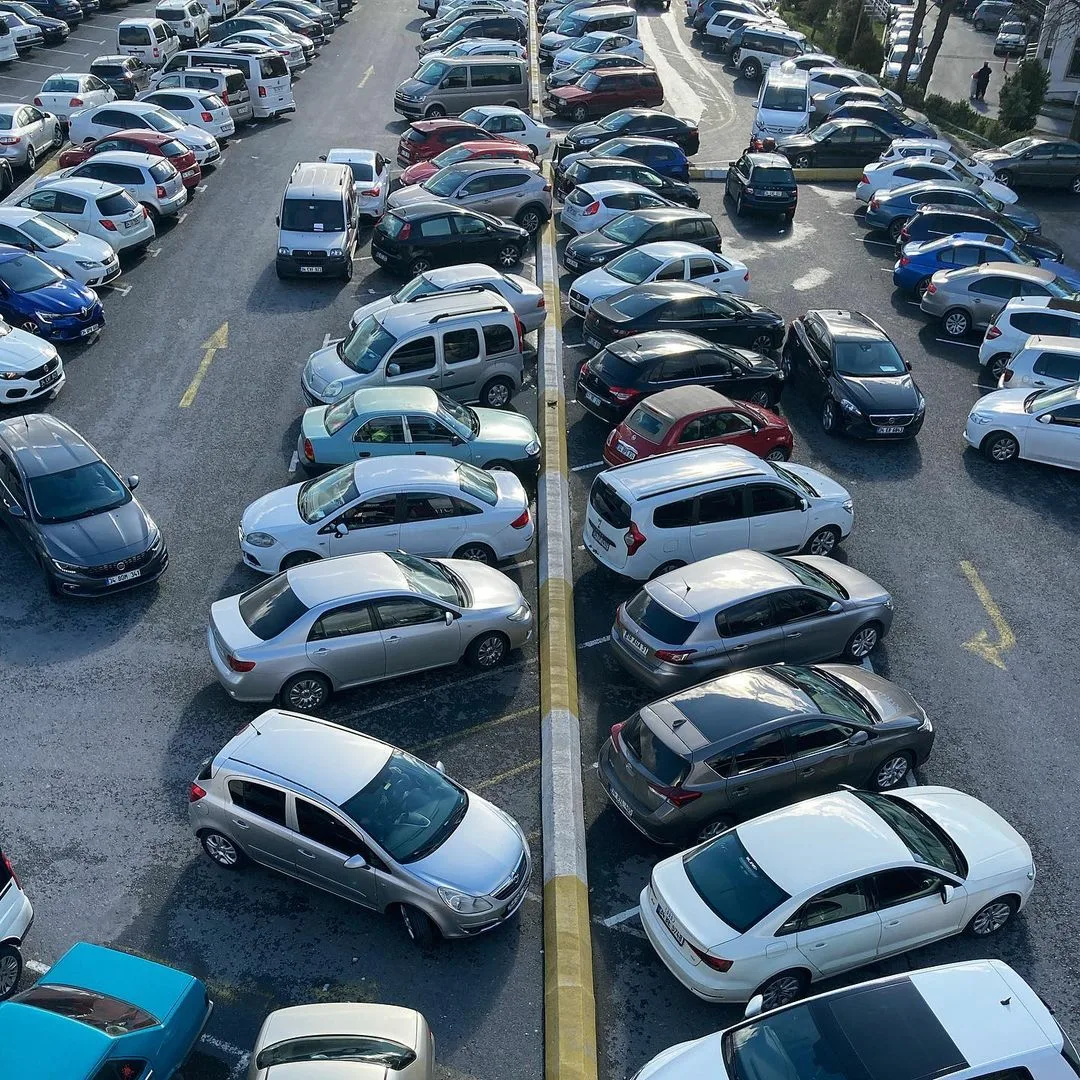Car: (640, 784, 1036, 1009), (188, 710, 532, 945), (597, 664, 935, 847), (631, 959, 1080, 1080), (207, 550, 533, 713), (610, 550, 895, 694), (582, 444, 855, 582), (239, 456, 535, 576), (0, 413, 168, 598), (0, 942, 213, 1080), (301, 285, 525, 408), (297, 386, 542, 480), (575, 329, 785, 425), (781, 308, 926, 441), (602, 384, 795, 467), (583, 279, 785, 355), (247, 1002, 435, 1080), (567, 241, 750, 317), (350, 263, 548, 333), (919, 262, 1080, 339), (386, 158, 554, 231), (892, 232, 1080, 297), (0, 177, 156, 255), (371, 202, 531, 277), (866, 179, 1042, 243), (33, 150, 189, 222), (148, 45, 296, 119), (562, 207, 722, 274), (0, 244, 106, 345), (963, 382, 1080, 473), (67, 100, 221, 169), (894, 203, 1066, 264), (277, 162, 360, 282), (0, 206, 122, 287), (58, 128, 201, 194), (393, 55, 530, 121), (978, 295, 1080, 379), (855, 155, 1023, 205), (560, 179, 696, 238), (132, 61, 252, 125), (559, 155, 700, 209), (563, 106, 700, 157), (544, 66, 664, 123), (771, 117, 904, 168), (557, 135, 693, 184), (971, 134, 1080, 194), (400, 137, 535, 185), (397, 117, 518, 169), (0, 316, 66, 407), (537, 5, 638, 62), (879, 136, 997, 182), (319, 148, 392, 222), (724, 152, 798, 225), (0, 848, 34, 1001), (752, 59, 816, 140), (808, 86, 929, 128), (458, 103, 553, 156), (209, 14, 316, 61), (201, 29, 307, 76), (138, 88, 235, 139), (419, 12, 520, 60), (997, 334, 1080, 389), (736, 25, 819, 79), (0, 102, 63, 173), (726, 22, 827, 65), (826, 100, 937, 139), (544, 52, 657, 90), (33, 73, 117, 120), (553, 31, 644, 72), (809, 66, 902, 104), (238, 0, 336, 36), (116, 17, 182, 69), (418, 37, 528, 67), (0, 0, 70, 47), (692, 0, 790, 33), (703, 10, 776, 53), (419, 5, 506, 41), (541, 0, 630, 35), (89, 53, 155, 100), (435, 0, 530, 30), (153, 0, 213, 47), (254, 7, 325, 46), (972, 0, 1041, 30), (13, 0, 84, 29), (0, 10, 44, 54), (252, 0, 340, 22), (883, 43, 925, 83), (685, 0, 780, 17), (442, 42, 527, 60), (770, 53, 848, 70), (993, 20, 1028, 54), (963, 0, 1014, 20), (0, 16, 20, 66), (197, 0, 241, 22), (537, 0, 574, 24), (888, 23, 923, 47), (742, 132, 774, 155), (417, 0, 454, 18), (544, 2, 570, 27), (0, 156, 15, 197), (895, 28, 923, 47), (513, 15, 528, 47), (632, 0, 672, 11), (76, 0, 100, 18), (497, 0, 529, 13), (890, 18, 913, 33), (885, 0, 914, 10), (338, 0, 352, 19), (99, 0, 128, 9), (534, 0, 555, 11), (894, 8, 917, 18), (898, 12, 915, 20), (758, 0, 770, 9), (129, 0, 151, 4), (352, 0, 360, 7), (769, 0, 773, 9), (772, 0, 774, 7), (774, 0, 776, 3)
